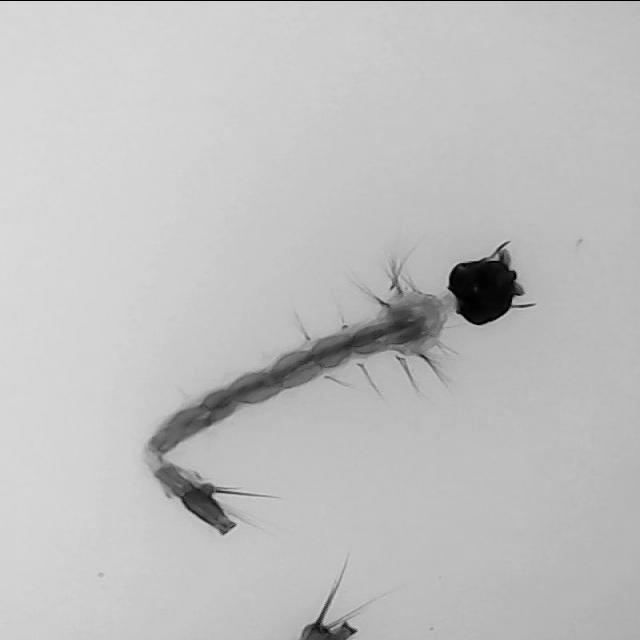larvas: (150, 252, 510, 532), (297, 583, 372, 640)
